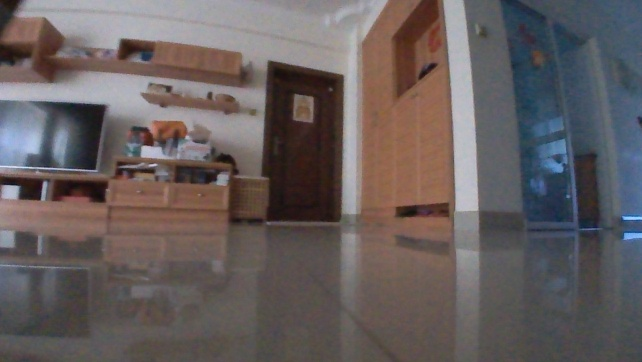TV_stand1: (0, 154, 235, 229)
door_anno: (260, 60, 343, 223)
